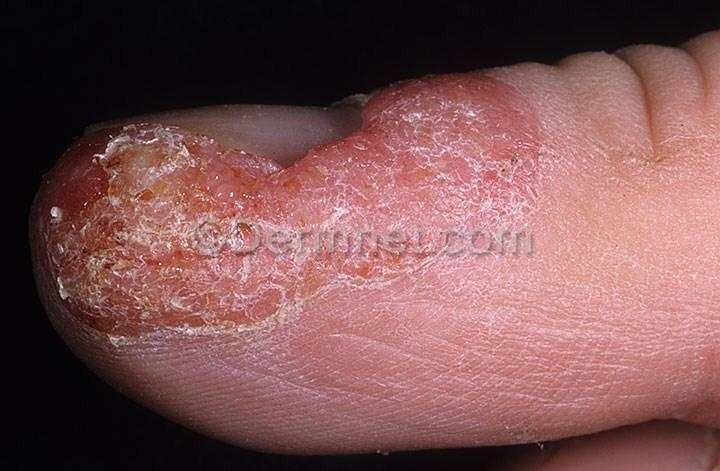Eczema: (455, 256, 581, 360), (443, 74, 538, 192), (567, 224, 633, 347), (61, 236, 153, 322), (166, 134, 243, 217), (133, 187, 203, 274), (344, 291, 408, 386), (277, 222, 353, 301), (392, 133, 459, 218), (405, 210, 488, 277), (49, 173, 130, 241), (535, 150, 604, 227), (82, 321, 190, 370), (220, 229, 281, 315), (405, 269, 454, 375), (343, 203, 402, 291), (312, 150, 391, 214), (237, 153, 304, 228), (275, 311, 344, 379), (154, 270, 234, 325), (373, 85, 448, 141), (198, 326, 274, 380), (86, 133, 161, 187), (463, 183, 528, 236), (511, 202, 569, 250)
